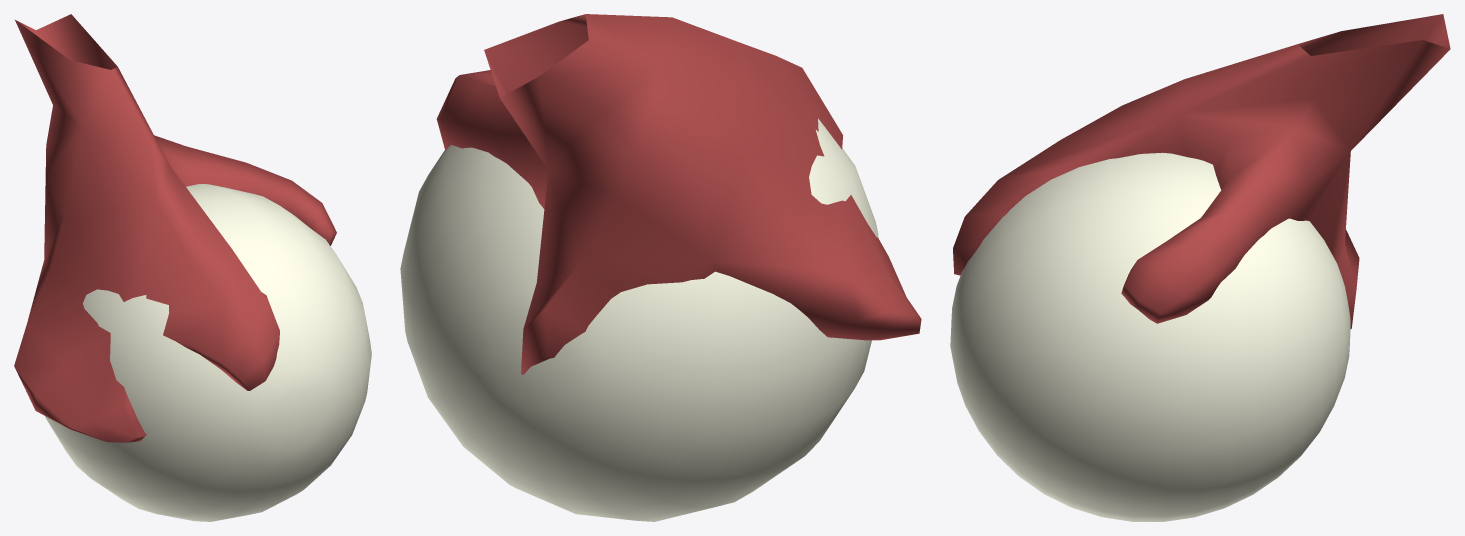
File: pez_abisal_farol.obj
3 views of the same model, side by side, from view 1: azimuth 30°, elevation 25°; view 2: azimuth 150°, elevation 25°; view 3: azimuth 270°, elevation 25° (orthographic). The views are drawn at different scales.
Bounding box in the file's own units: 0.2149 × 0.2544 × 0.2513.
